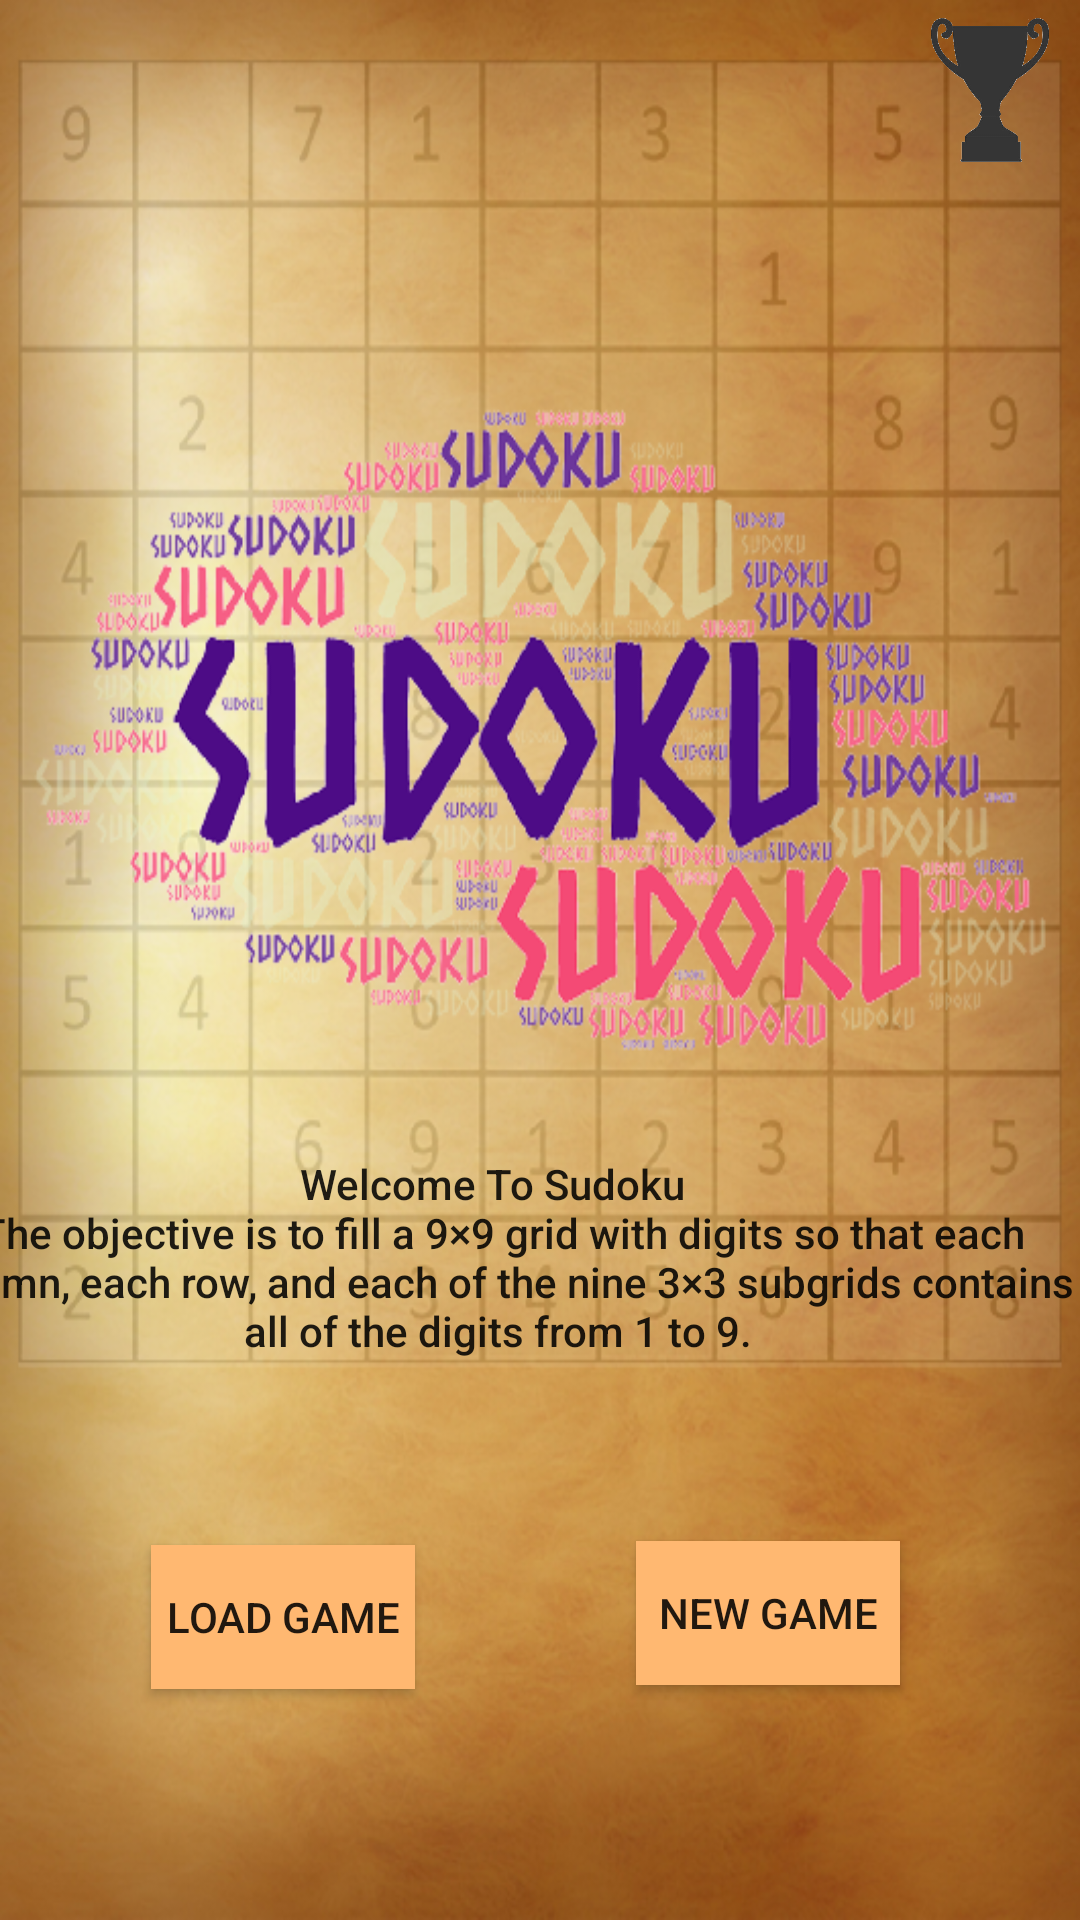

Screen size 1080x1920. Icon name, then its center in pixels as (x=x, y=y):
scoreboard: (x=990, y=90)
